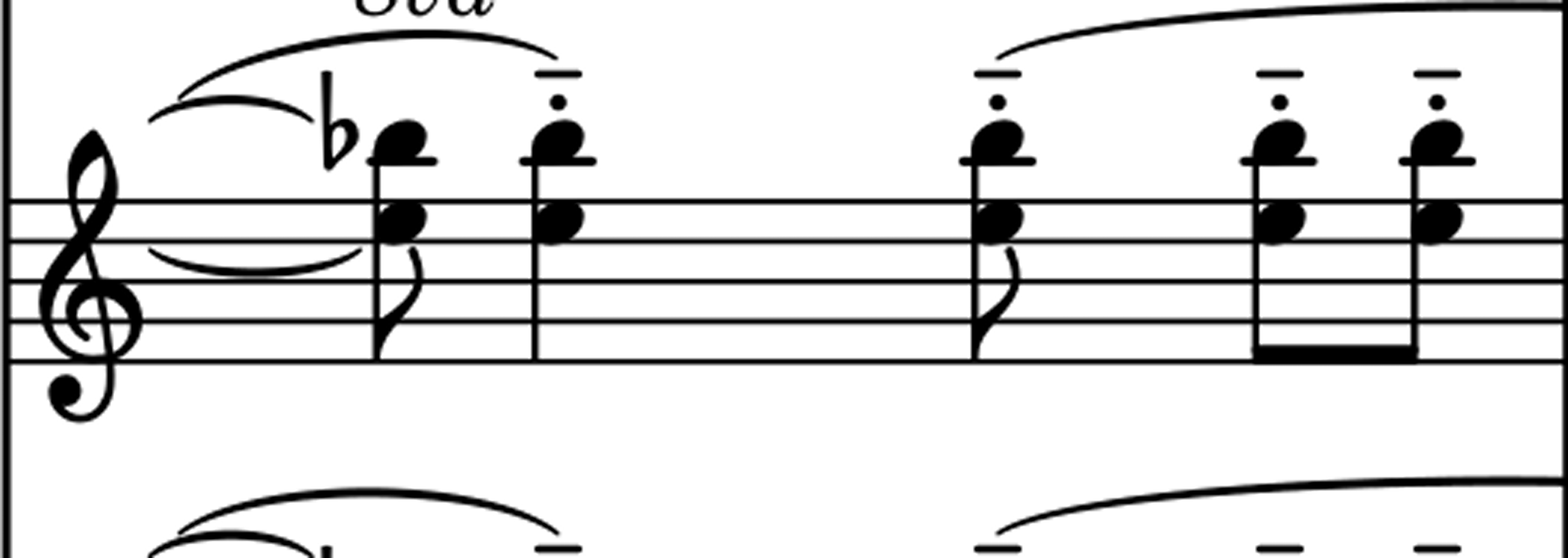accidentalFlat: (321, 71, 357, 170)
articStaccatoAbove: (989, 95, 1005, 109)
beam: (997, 465, 1567, 536), (997, 0, 1567, 59), (176, 28, 558, 100)
clefG: (27, 116, 148, 429)
flag8thDown: (972, 246, 1019, 362)
ledgerLine: (367, 157, 436, 165)
noteheadBlackInSpace: (1253, 200, 1304, 243), (1411, 201, 1461, 242), (1254, 120, 1305, 160), (377, 200, 425, 242), (374, 120, 425, 159), (1411, 120, 1462, 159), (974, 200, 1021, 242), (532, 120, 582, 159), (536, 200, 582, 242), (972, 120, 1022, 158)
slur: (997, 466, 1568, 535), (997, 0, 1567, 58), (178, 29, 558, 102), (177, 489, 560, 535), (150, 246, 360, 276), (149, 96, 313, 122), (149, 532, 313, 557)
staff: (333, 193, 1509, 313)
